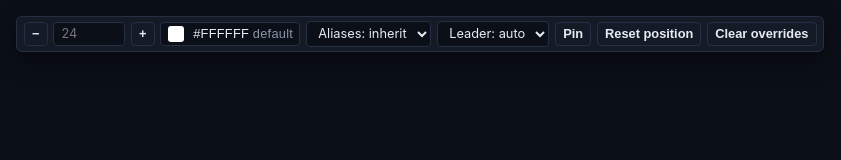
Test: LabelToolbar › an arrow steps from a typed but uncommitted size
This screenshot has width=841, height=160.
Type "30" into the number field named "Font size". click: (89, 34)
box: x1=53 y1=22 x2=125 y2=46
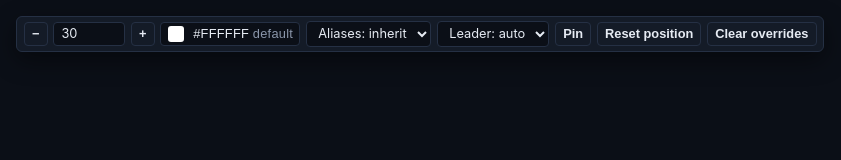
Press ArrowUp in the number field named "Font size", box x1=53 y1=22 x2=125 y2=46
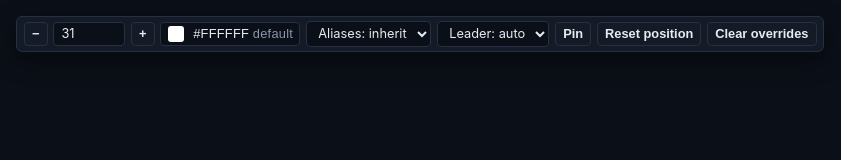
Check: the number field named "Font size" holds "31", box x1=53 y1=22 x2=125 y2=46
